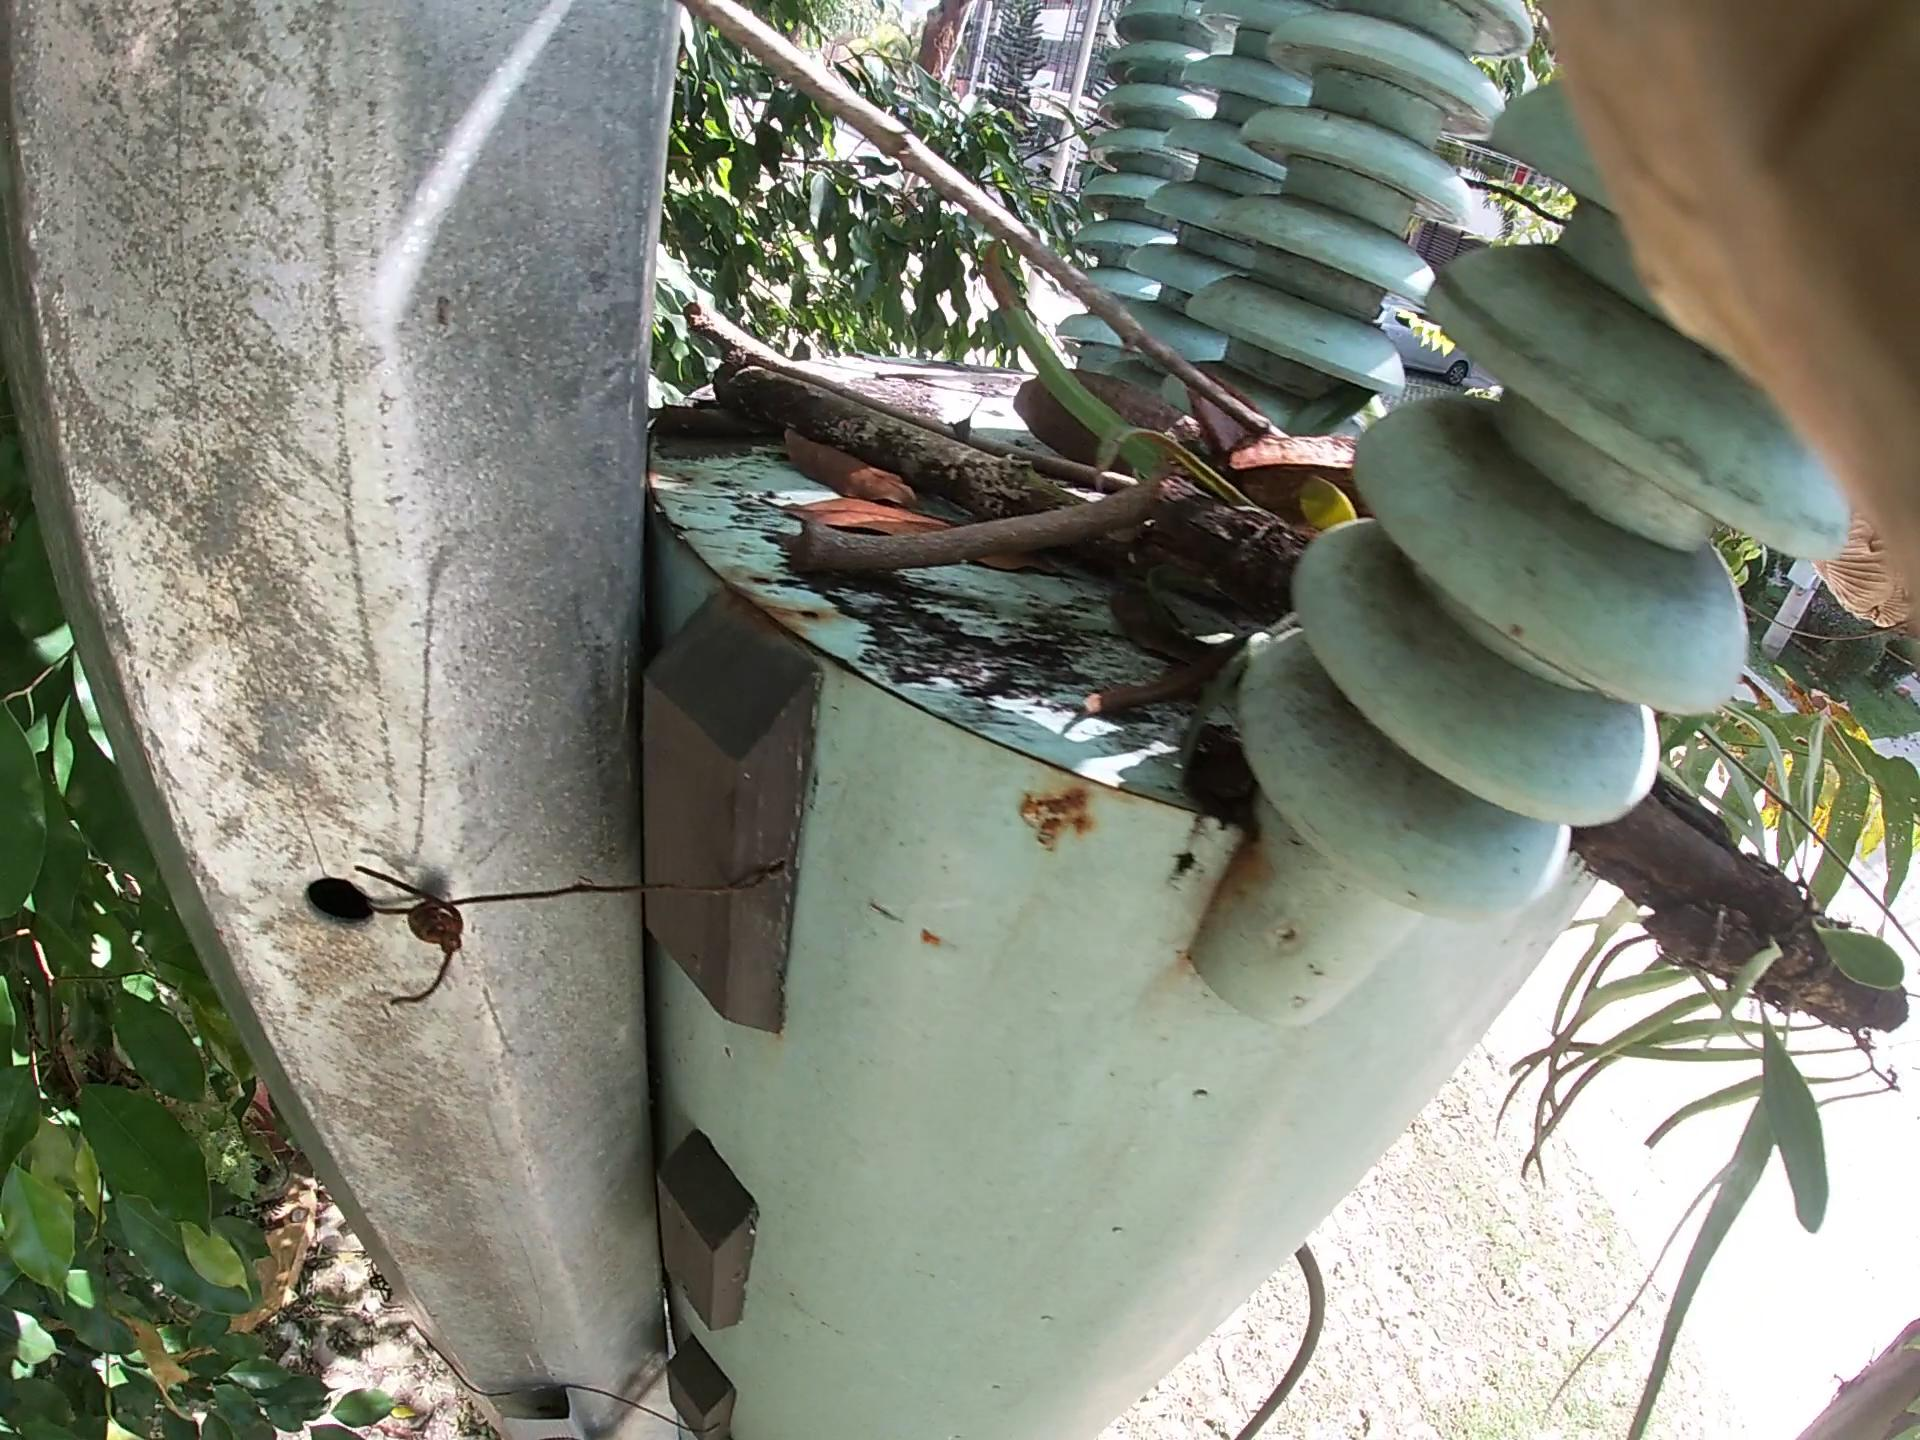branch with leaves: (723, 352, 1863, 961)
leaf: (760, 451, 1037, 588)
mahogany fruit: (1020, 303, 1299, 513), (1175, 365, 1426, 563)
tree branch: (853, 33, 1512, 597), (736, 321, 1212, 523), (698, 495, 1152, 620)
